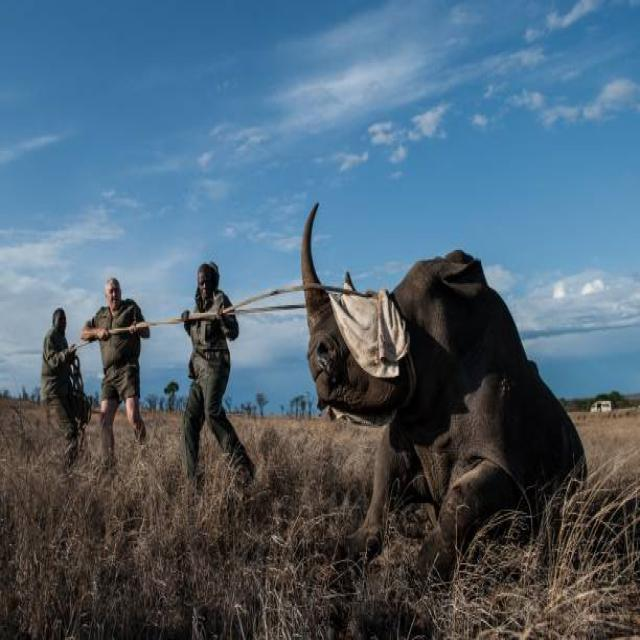Hunter: (168, 254, 248, 482), (98, 256, 146, 470), (44, 293, 82, 478)
Rinoceros: (291, 196, 598, 580)
